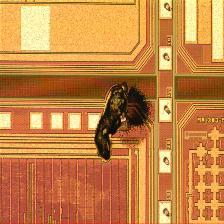BLOCK ETCH: (82, 77, 161, 166)
